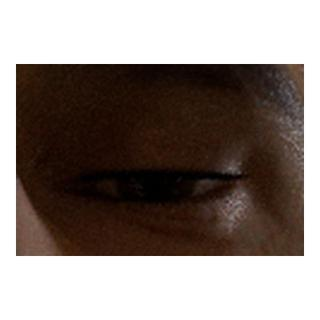pupil: (137, 160, 173, 196)
